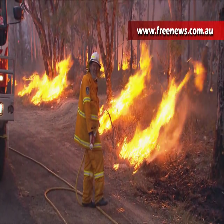fire_h: (120, 68, 193, 174), (98, 41, 152, 136), (19, 54, 73, 104), (189, 59, 205, 90)
fire_l: (98, 50, 105, 77), (122, 57, 130, 71), (117, 56, 120, 71), (85, 52, 88, 66)
